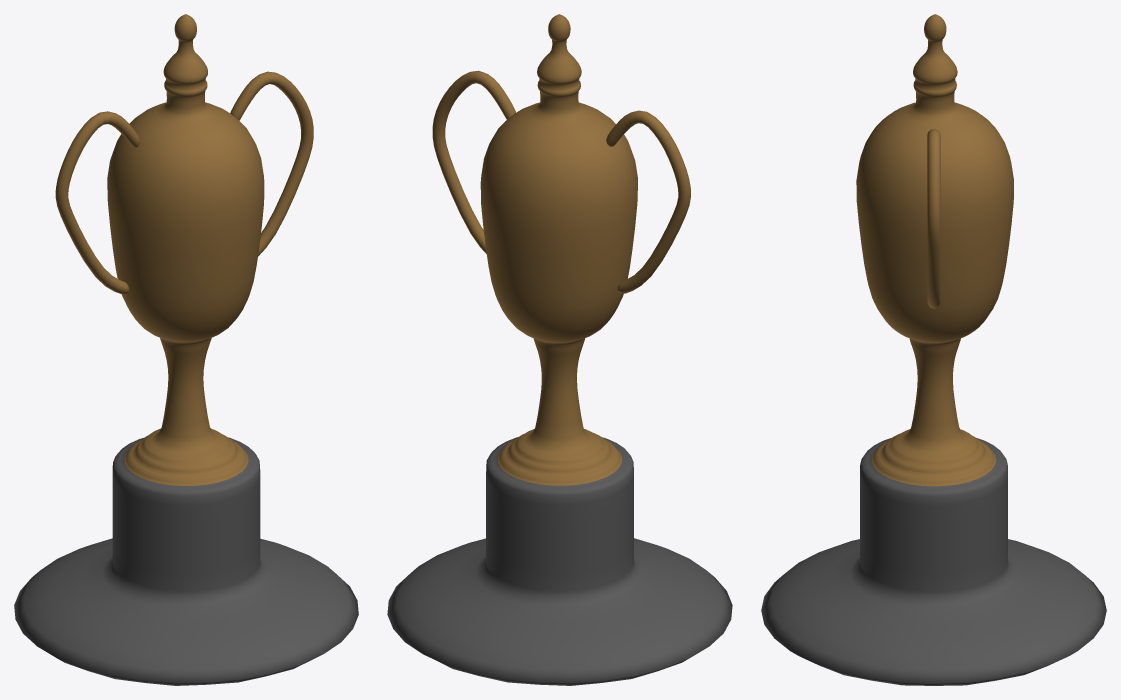
Rendered from Trophy3.fbx.
The picture shows the model from 3 angles, left to right: view 1: azimuth 30°, elevation 25°; view 2: azimuth 150°, elevation 25°; view 3: azimuth 270°, elevation 25°; orthographic projection.
Parts seen in each view (by area): view 1: Trophy3; view 2: Trophy3; view 3: Trophy3.
Part boxes in pixels (x1,y1,x2,y2): Trophy3: [14, 14, 358, 685]; Trophy3: [387, 14, 732, 685]; Trophy3: [761, 14, 1106, 685].
Size of the model in its own units: 64.63 by 125 by 64.63.
